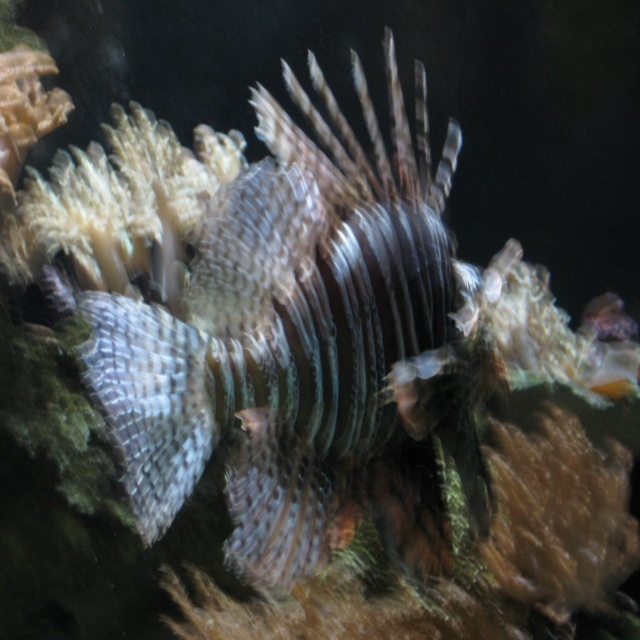Fish: (41, 25, 500, 596)
